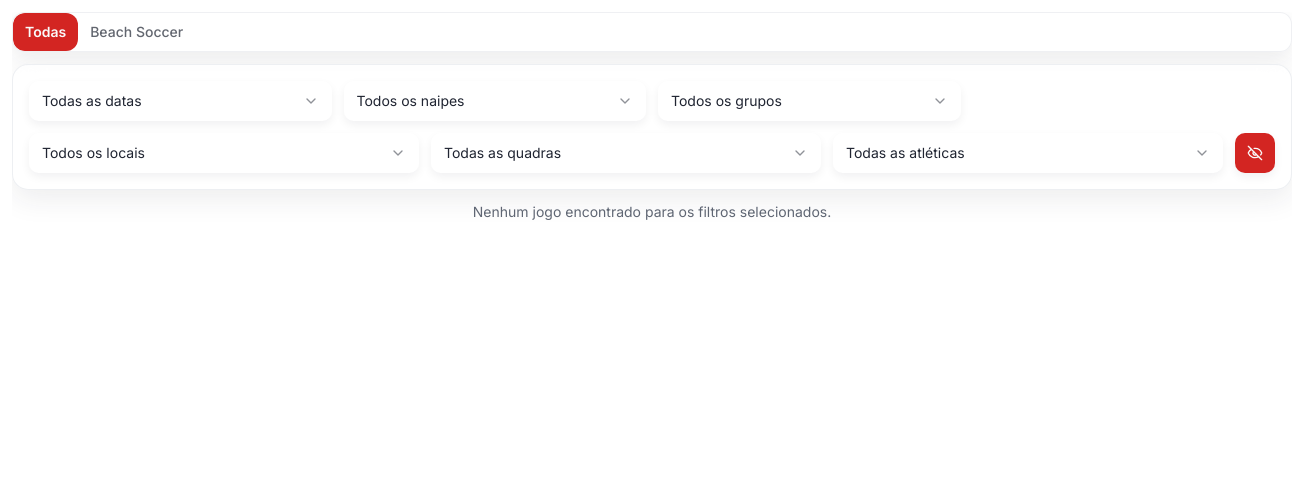
it: AdminMatches score sheet review › exibe indicador visual de revisão no card do admin
Step 1. Click the button named "Mostrar jogos revisados também" → point(1255, 153), box [1235, 133, 1275, 173]
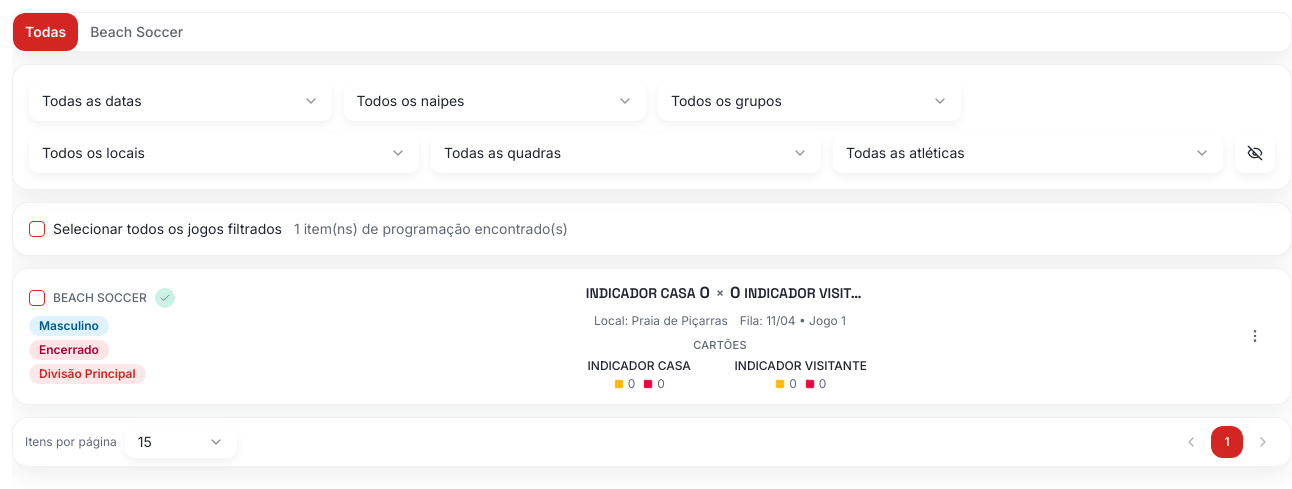
Now the element titled "Conferido com súmula" is shown, box [155, 288, 175, 308]
